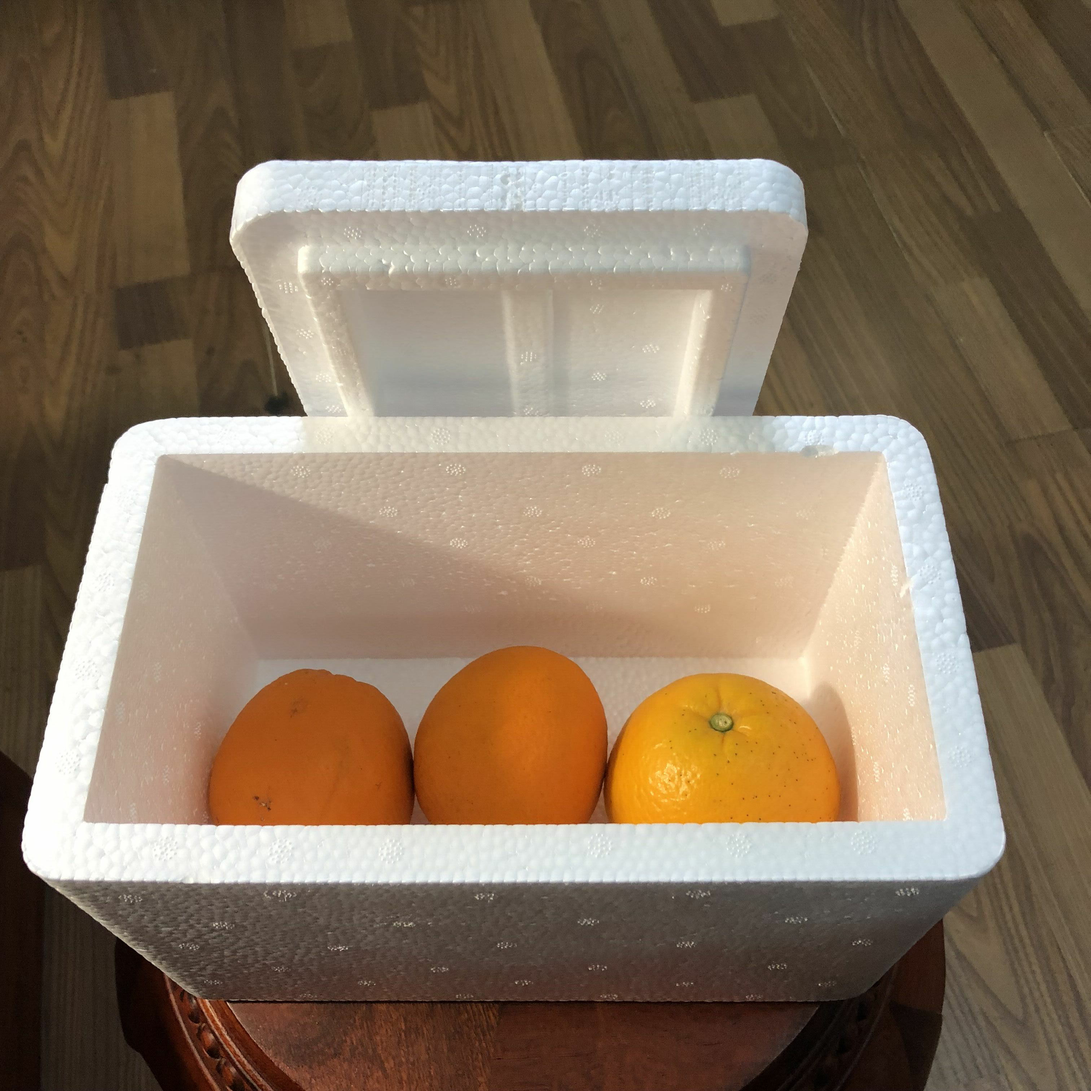Parcel: (25, 160, 1003, 1001)
